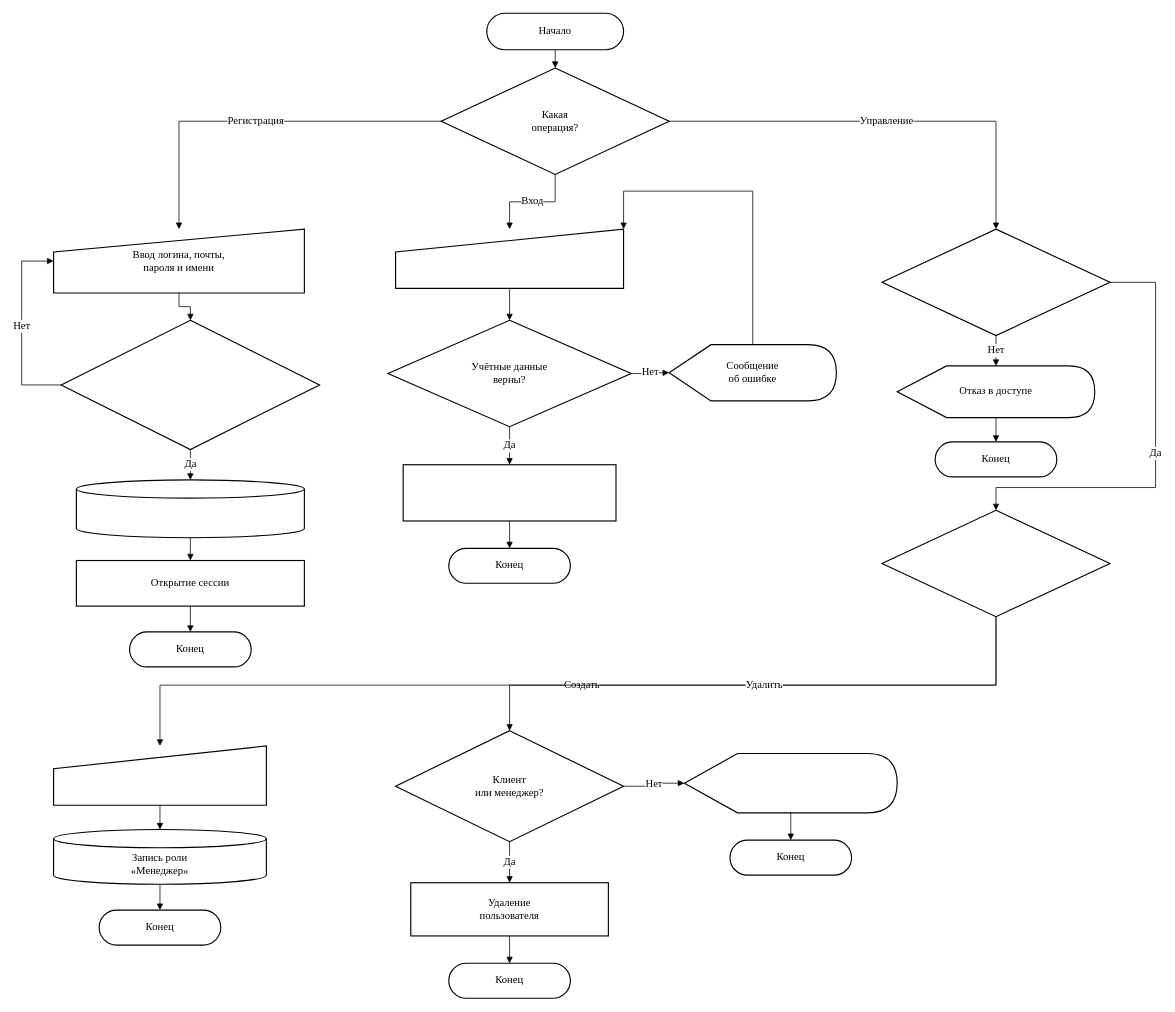
Some shapes in this 1175 by 1012 pixel diagram are drawn without their labels. Each missing label, with the box of its shape:
Администратора удалить нельзя: (683, 753, 897, 813)
Ввод данных менеджера: (53, 745, 267, 805)
Ввод логина и пароля: (395, 228, 624, 289)
Логин свободен и пароль допустим?: (60, 319, 320, 450)
Роль «Клиент» и профиль: (75, 479, 305, 538)
Сессия по роли профиля: (402, 464, 616, 521)
Что сделать с записью?: (881, 509, 1110, 617)
Это администратор?: (881, 228, 1110, 336)
